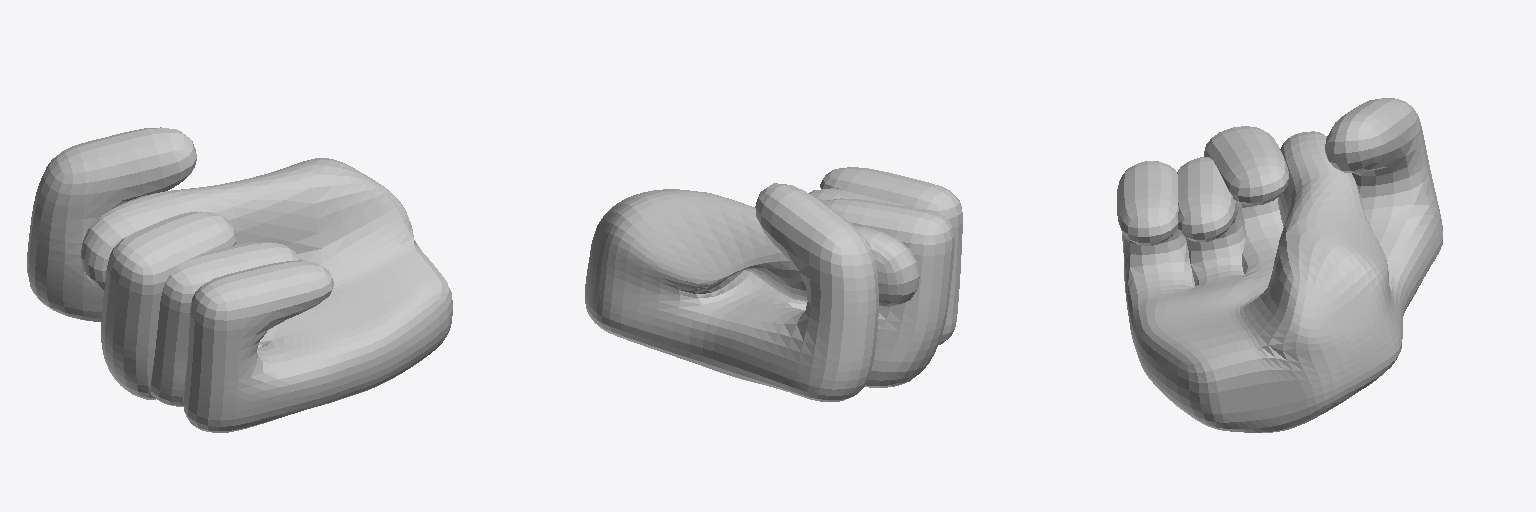
3 renders of one model, left to right at view 1: azimuth 30°, elevation 25°; view 2: azimuth 150°, elevation 25°; view 3: azimuth 270°, elevation 25°, orthographic.
Visible parts, largest first — view 1: T_HAND; view 2: T_HAND; view 3: T_HAND.
Boxes of the visible parts, x1=… form: T_HAND: x1=27, y1=127, x2=452, y2=432; T_HAND: x1=585, y1=167, x2=962, y2=401; T_HAND: x1=1117, y1=98, x2=1442, y2=432.
Size of the model in its own units: 141 by 91.05 by 123.